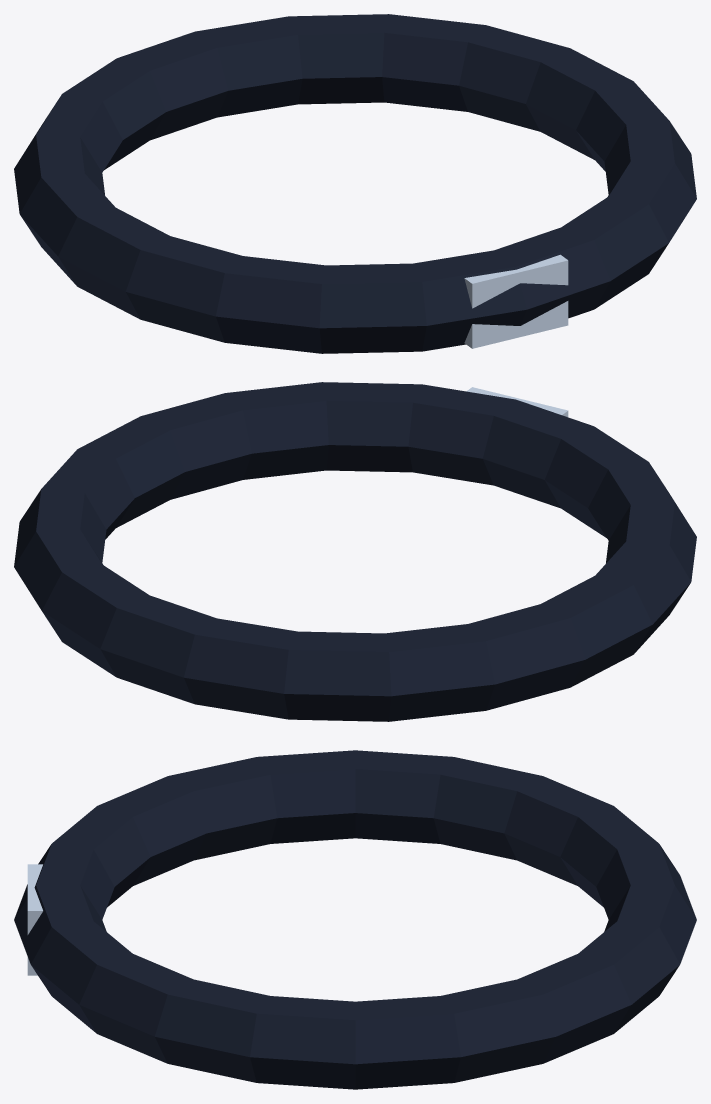
Rendered from Skin_StarterWaist.obj.
The picture shows the model from 3 angles, top to bottom: view 1: azimuth 30°, elevation 25°; view 2: azimuth 150°, elevation 25°; view 3: azimuth 270°, elevation 25°; orthographic projection.
Visible parts, largest first — view 1: Skin_StarterWaist_BaseArmor, Skin_StarterWaist_TrimMetal; view 2: Skin_StarterWaist_BaseArmor; view 3: Skin_StarterWaist_BaseArmor, Skin_StarterWaist_TrimMetal.
Boxes of the visible parts, x1,y1,x2,y2 form: Skin_StarterWaist_BaseArmor: (14,14,696,353); Skin_StarterWaist_TrimMetal: (464,254,568,348); Skin_StarterWaist_BaseArmor: (14,382,696,721); Skin_StarterWaist_BaseArmor: (14,750,696,1089); Skin_StarterWaist_TrimMetal: (27,864,42,975).
Bounding box in the file's own units: 0.402 × 0.045 × 0.402.
